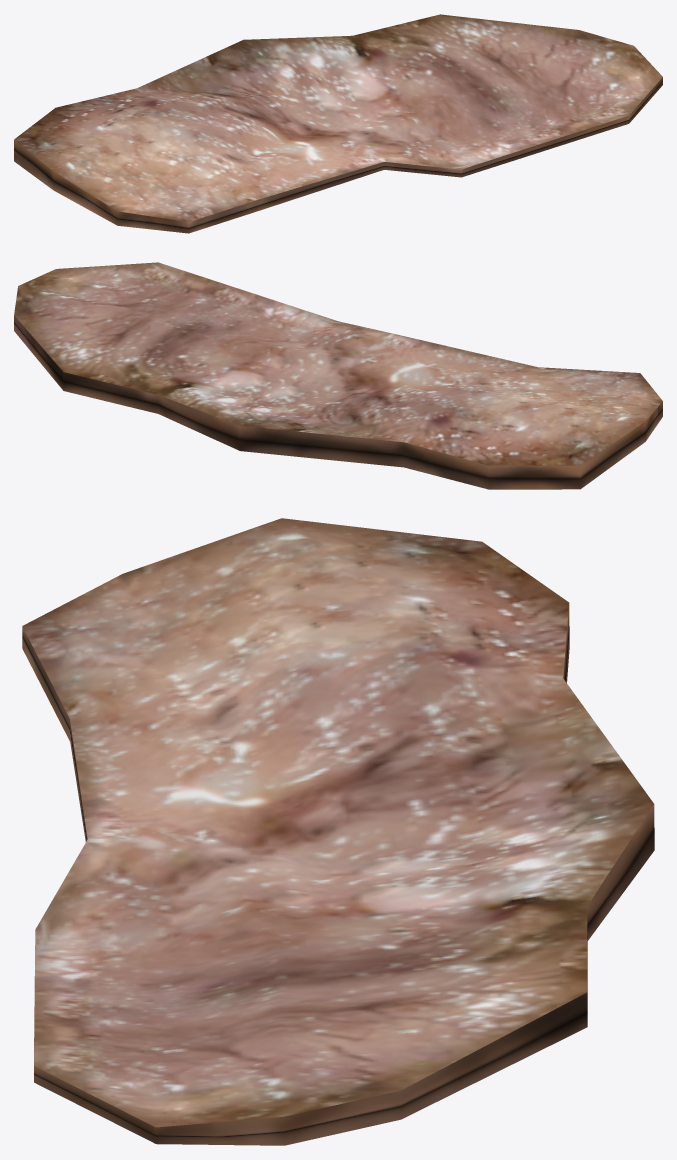
File: BgMD_chashu.fbx
The picture shows the model from 3 angles, top to bottom: view 1: azimuth 30°, elevation 25°; view 2: azimuth 150°, elevation 25°; view 3: azimuth 270°, elevation 25°; orthographic projection. The views are drawn at different scales.
Parts seen in each view (by area): view 1: chashu; view 2: chashu; view 3: chashu.
Part boxes in pixels (<box>): chashu: <box>14,14,662,233</box>; chashu: <box>14,262,662,489</box>; chashu: <box>22,518,654,1145</box>.
Size of the model in its own units: 6.77 by 0.5737 by 3.19.
Materials: 1 (1 with a texture image).
